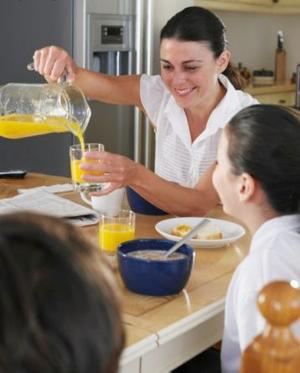person: (34, 7, 263, 219)
